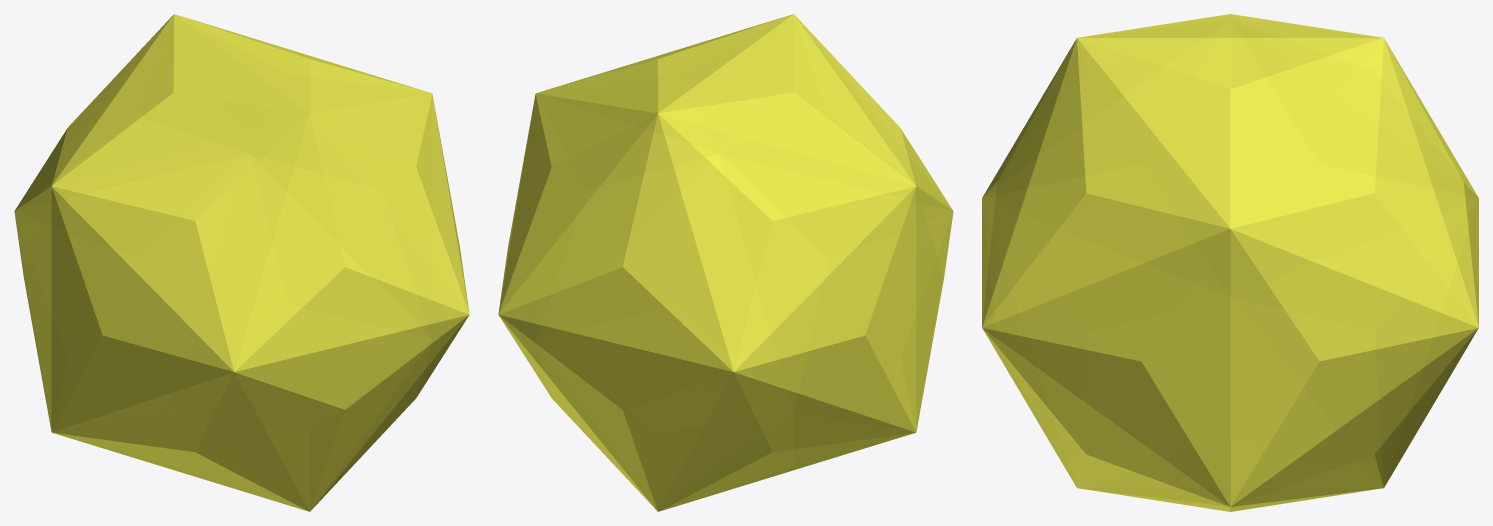
The model's file is TriakisIcosahedron.obj.
3 renders of one model, left to right at view 1: azimuth 30°, elevation 25°; view 2: azimuth 150°, elevation 25°; view 3: azimuth 270°, elevation 25°, orthographic. The views are drawn at different scales.
Bounding box in the file's own units: 5.85 × 5.85 × 5.85.
